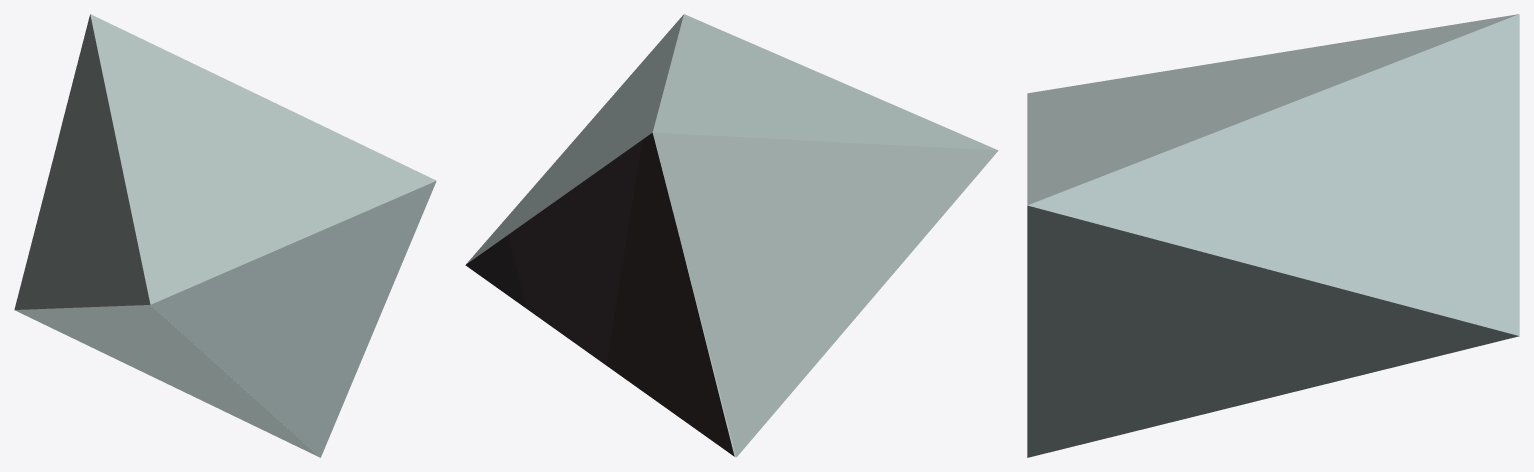
Rendered from ywj001-geode.glb.
The picture shows the model from 3 angles, left to right: view 1: azimuth 30°, elevation 25°; view 2: azimuth 150°, elevation 25°; view 3: azimuth 270°, elevation 25°; orthographic projection. The views are drawn at different scales.
Parts seen in each view (by area): view 1: Node; view 2: Node; view 3: Node.
Boxes of the visible parts, bbox=[...] form: Node: bbox=[14, 14, 436, 457]; Node: bbox=[465, 14, 998, 457]; Node: bbox=[1027, 14, 1519, 457].
Bounding box in the file's own units: 0.3435 × 0.3498 × 0.3749.
1 material, 1 textured.
